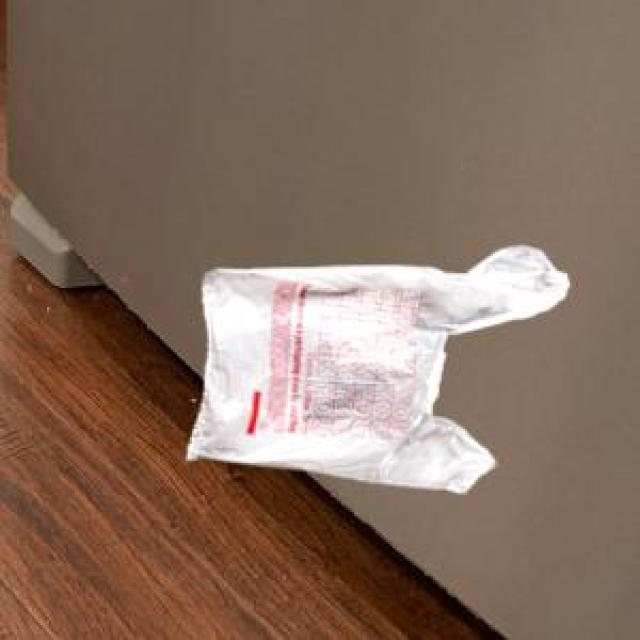plastic: (165, 222, 623, 550)
